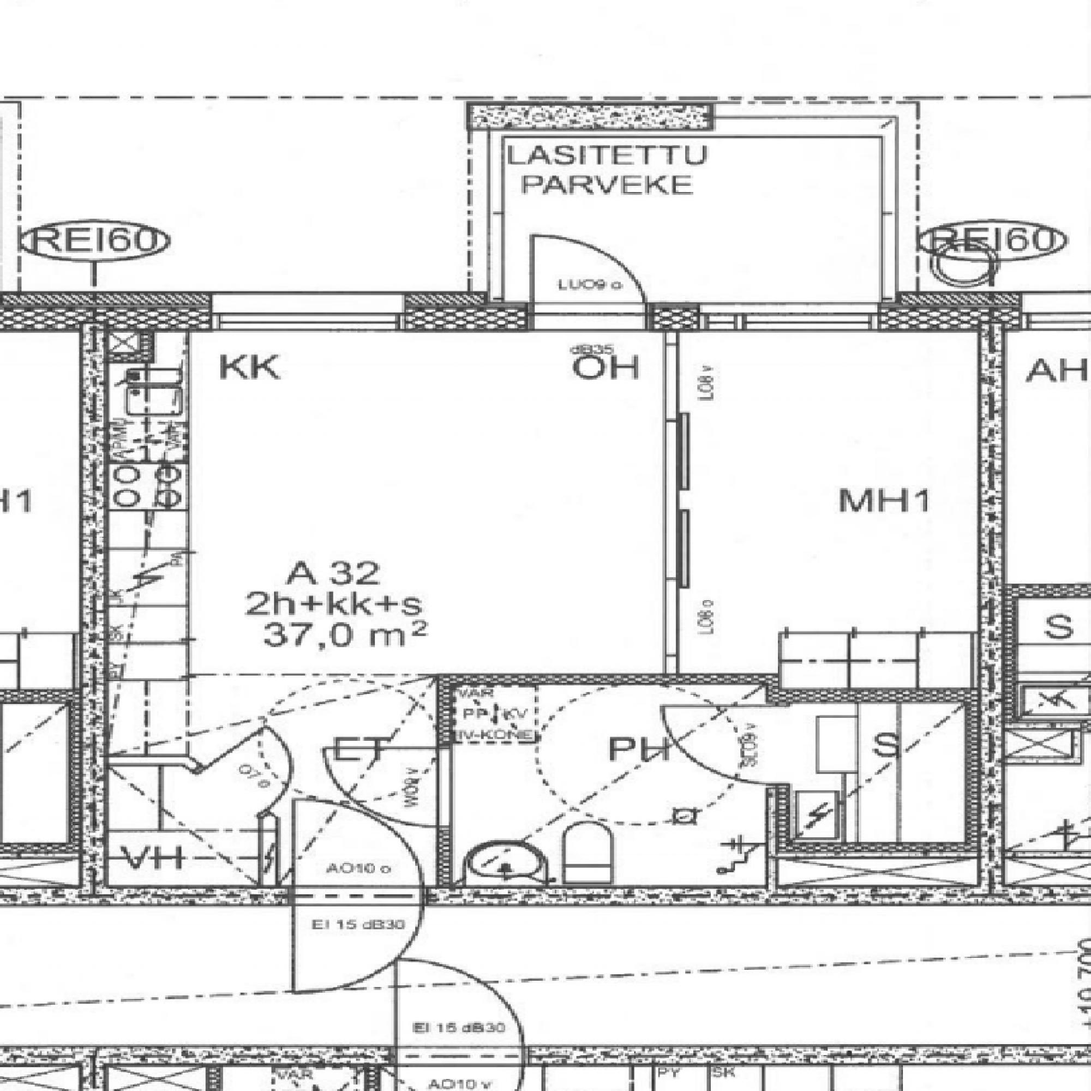wall: (79, 887, 1006, 906), (79, 292, 107, 906), (79, 292, 488, 331), (488, 303, 1007, 330), (978, 303, 1006, 703), (488, 117, 897, 137), (967, 702, 1006, 905), (183, 756, 278, 818), (664, 303, 679, 685), (767, 689, 790, 905), (437, 675, 779, 685), (767, 688, 1006, 702), (437, 675, 451, 906), (488, 117, 503, 331), (882, 117, 897, 303), (259, 818, 278, 905), (79, 756, 188, 765), (767, 675, 779, 689)
